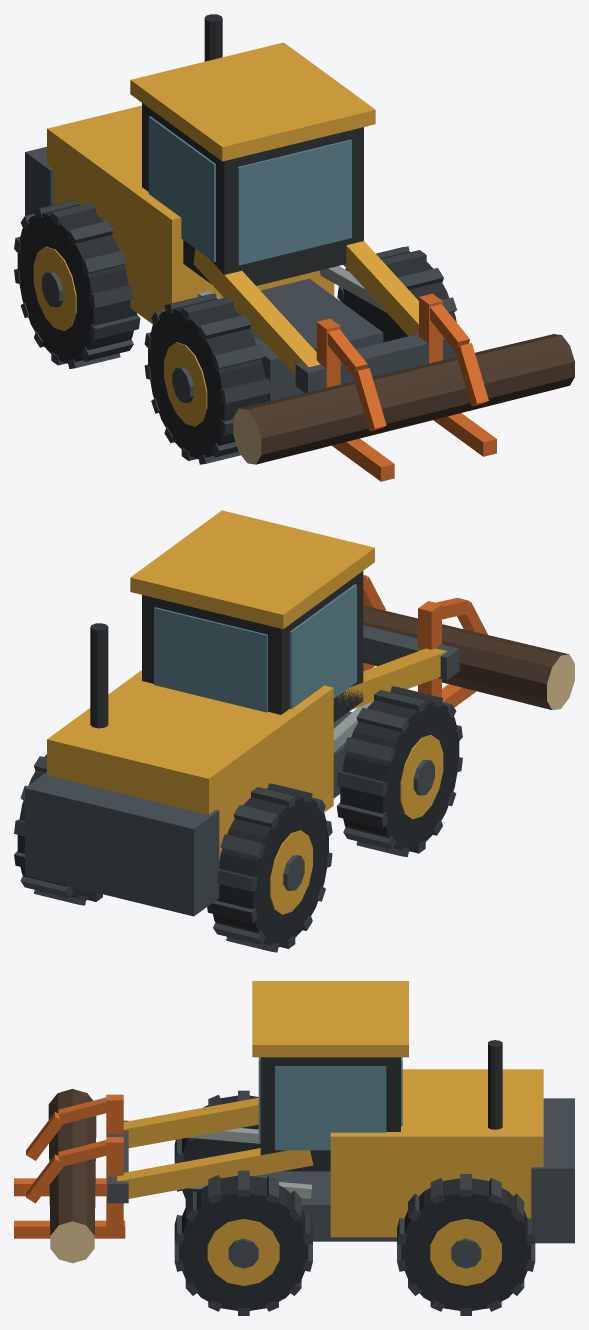
File: log_loader.glb
3 renders of one model, top to bottom at view 1: azimuth 30°, elevation 25°; view 2: azimuth 150°, elevation 25°; view 3: azimuth 270°, elevation 25°, orthographic. The views are drawn at different scales.
Visible parts, largest first — view 1: log_loader; view 2: log_loader; view 3: log_loader.
Boxes of the visible parts, x1=… form: log_loader: x1=14, y1=14, x2=574, y2=481; log_loader: x1=14, y1=510, x2=574, y2=952; log_loader: x1=14, y1=981, x2=574, y2=1315.
Bounding box in the file's own units: 3.2 × 2.89 × 5.8.
